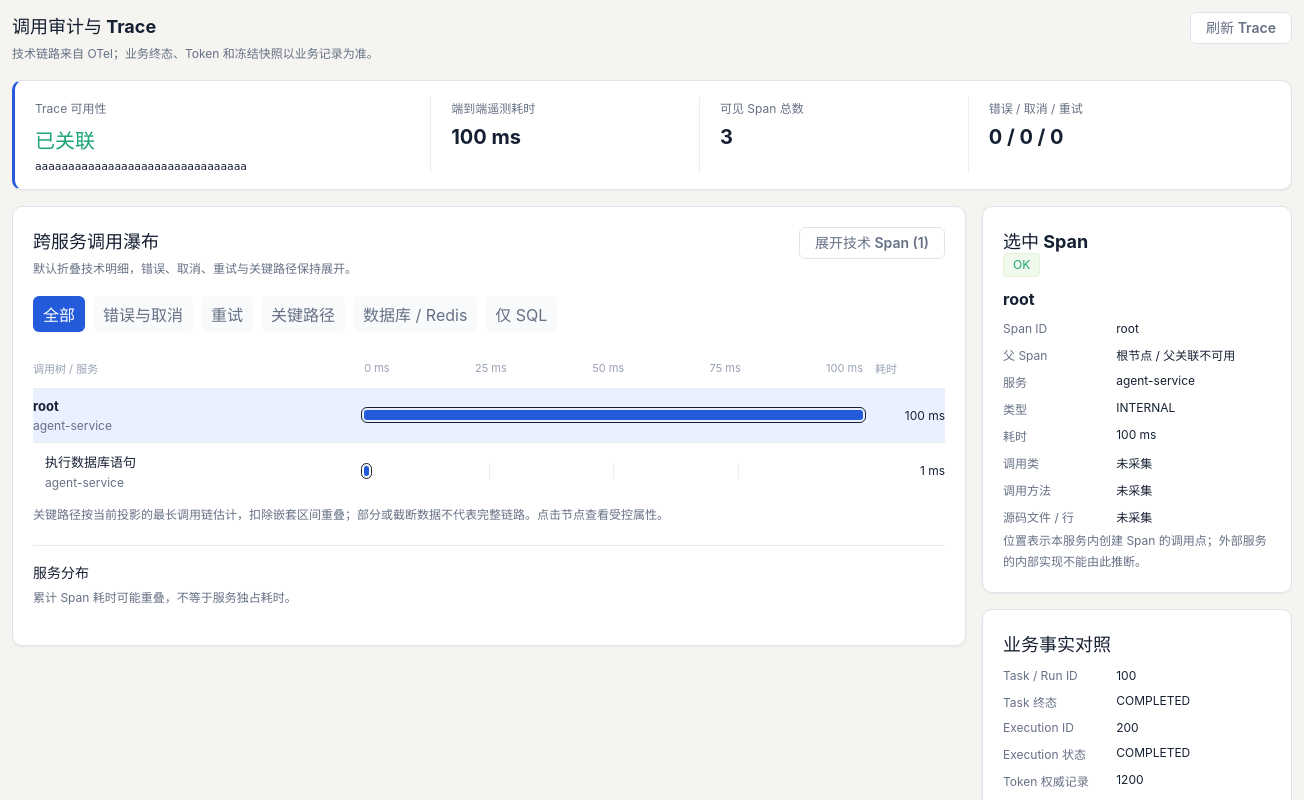
Test: technical Trace and authoritative facts › shows folded database and Redis operations when filtering for data access
Click the button "数据库 / Redis" at (415, 314), box [353,296,477,332]
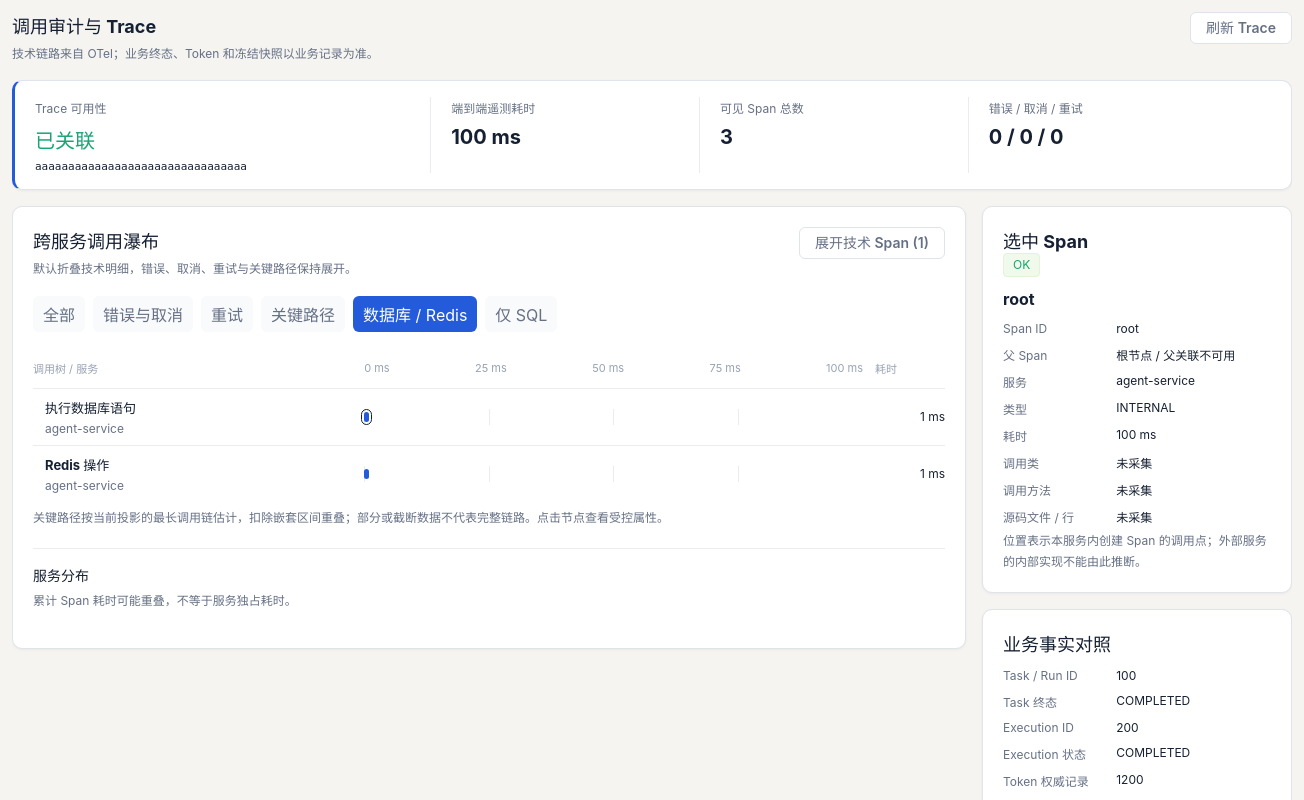
Expected: the number of buttons with class "span-row" is 2, [33,388,945,445]; [33,445,945,502]
Expected: the text "Redis 操作" is shown, [45,457,109,473]
